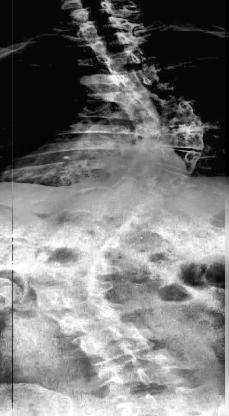Vertebrae: (92, 352, 194, 398), (70, 324, 160, 366), (25, 268, 112, 306), (47, 298, 132, 334), (115, 161, 191, 197), (133, 142, 211, 176), (82, 188, 158, 220), (54, 216, 130, 248), (30, 240, 104, 272), (139, 102, 207, 132), (139, 123, 209, 151), (108, 68, 170, 94), (124, 86, 187, 110), (76, 16, 134, 40), (95, 50, 153, 74), (86, 32, 142, 54), (69, 3, 119, 21)
